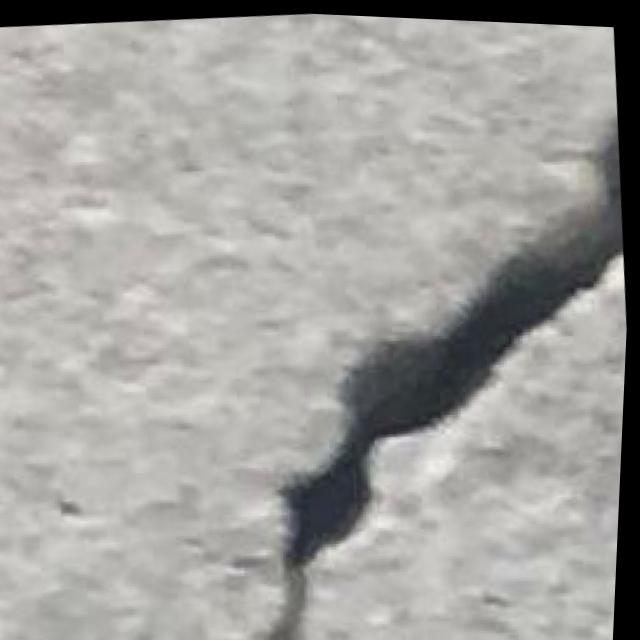Crack: (220, 102, 637, 640)
